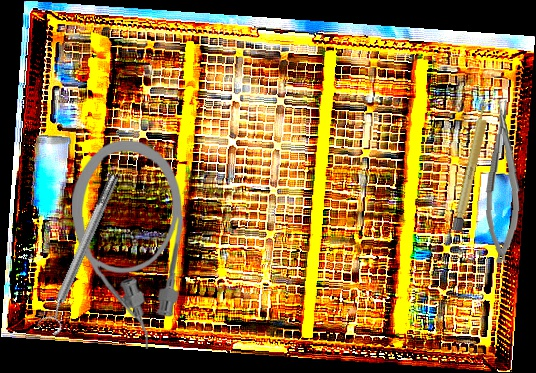Cannula: (71, 140, 185, 350)
Fixation Ring: (34, 171, 128, 337)
Needle Holder: (481, 99, 526, 264)
Scalpel Handle: (451, 100, 493, 233)
